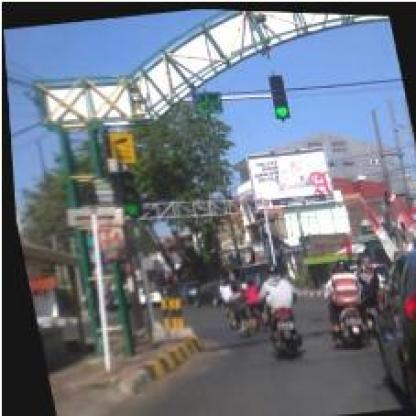green: (112, 169, 136, 216), (266, 70, 288, 116)
